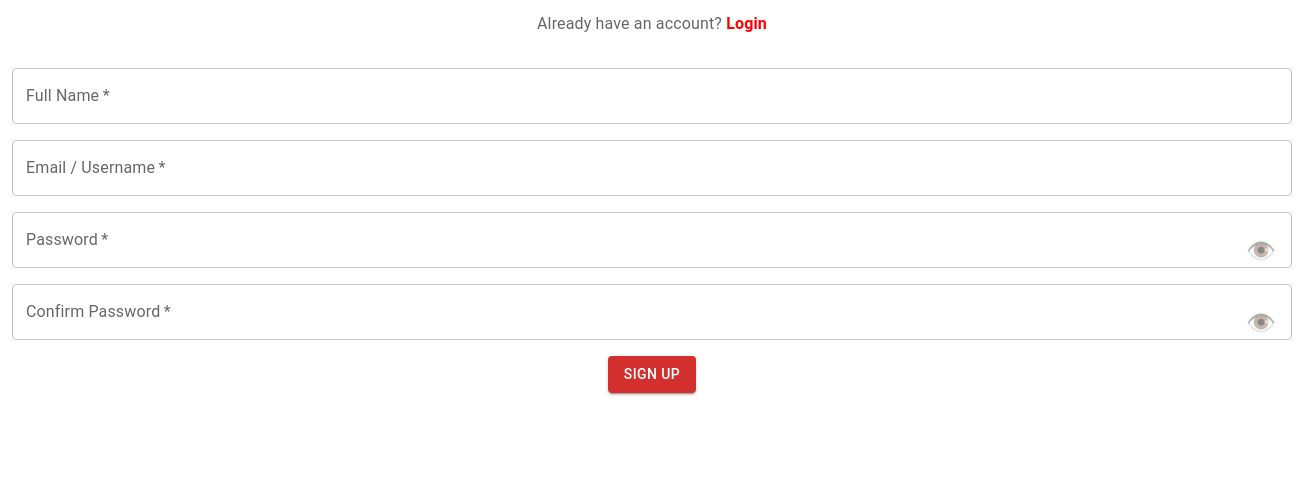
Test: SignupForm › shows validation errors when submitting empty form
The width and height of the screenshot is (1304, 504).
Click the button "Sign Up" at [652, 374], box [608,356,696,392]
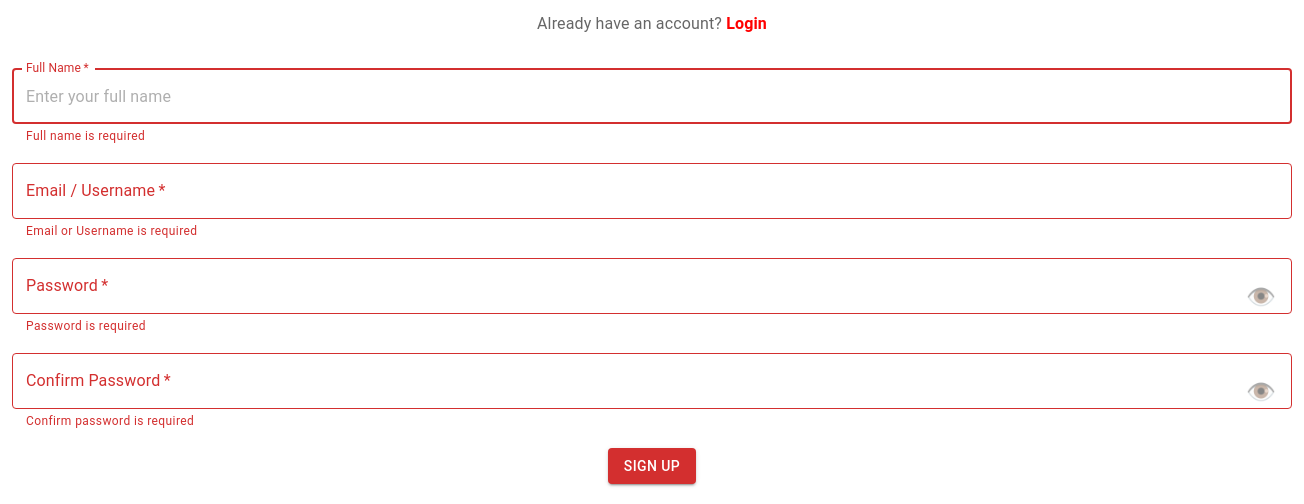
expect the text "Full name is required" is shown: met, box [26,129,145,143]
expect the text "Email or Username is required" is shown: met, box [26,224,197,238]
expect the text "Password is required" is shown: met, box [26,319,146,333]
